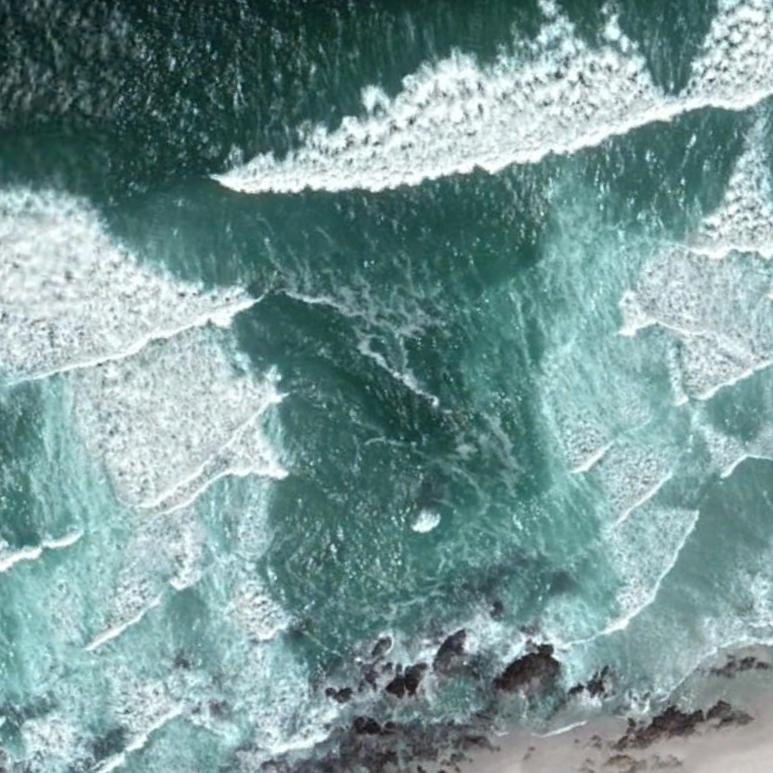rip_current: (176, 199, 654, 625)
